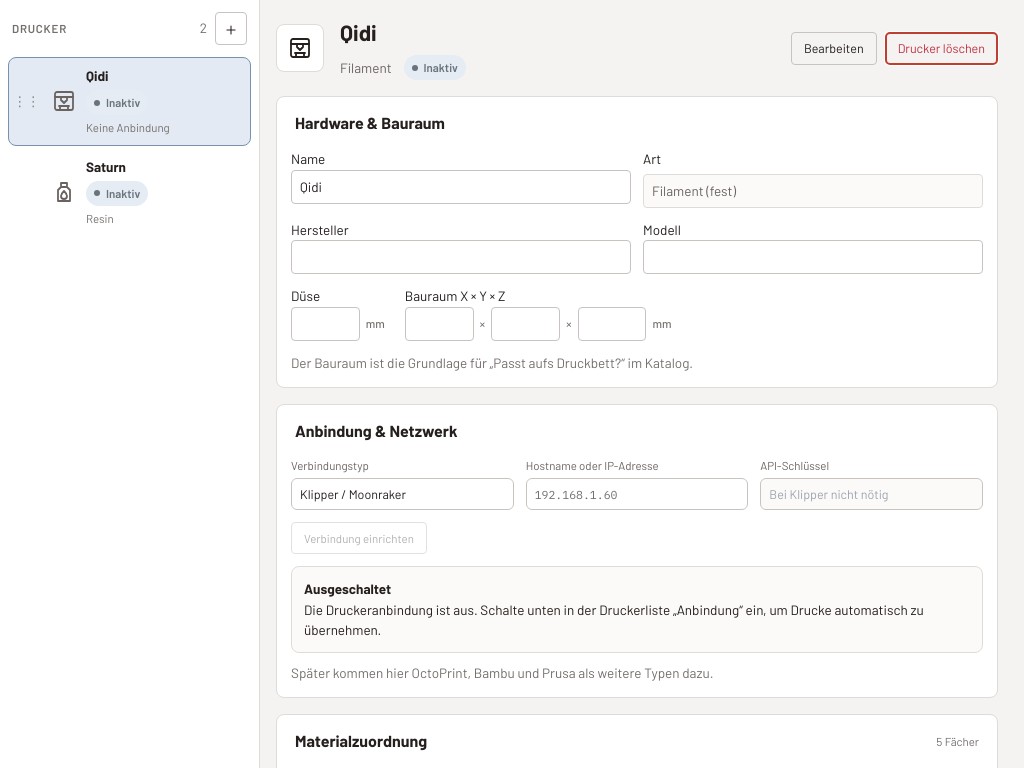
Test case: deletes only after confirmation with return-home count and supports Escape, focus return and Tab trap
Click the button "Drucker löschen". click: click(941, 48)
box: top-left (885, 32), bottom-right (998, 65)
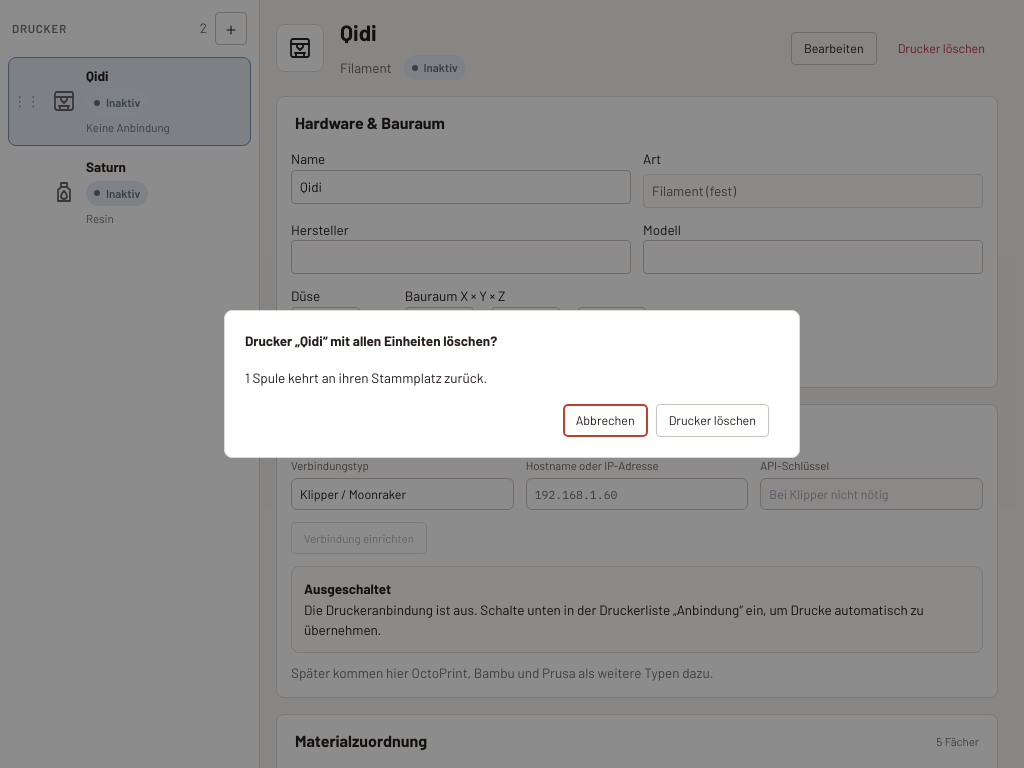
Result: the dialog shows "1 Spule" at top-left (245, 369), bottom-right (487, 386)
Press Tab in the button "Abbrechen", box top-left (563, 404), bottom-right (648, 437)
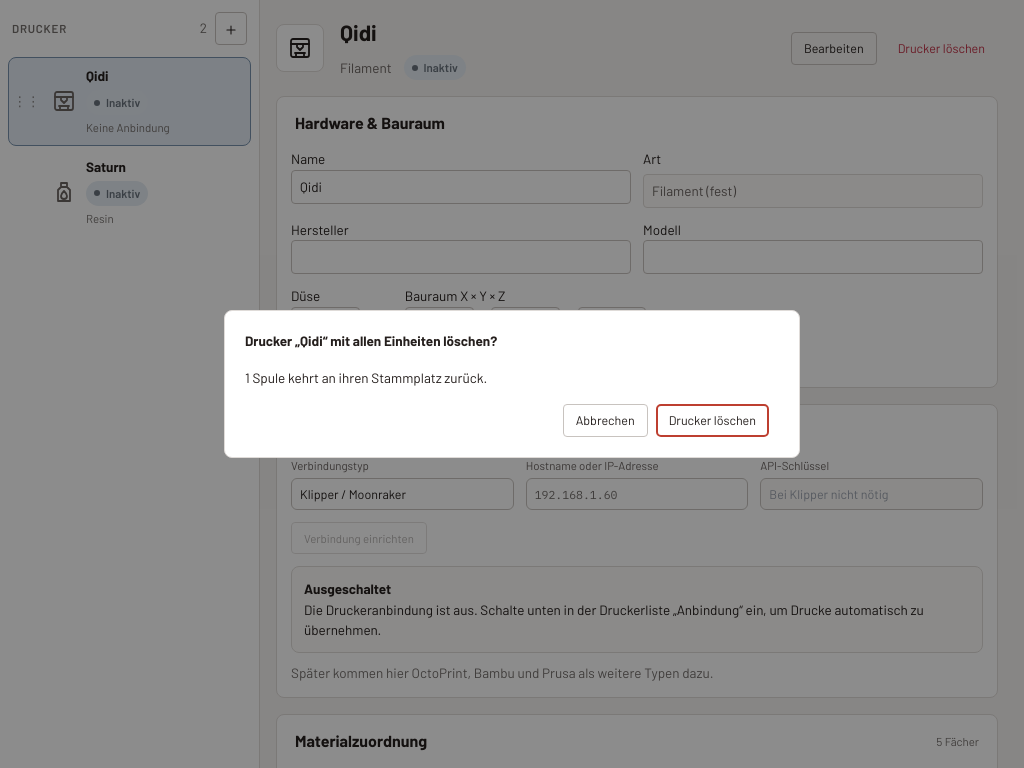
Press Escape in the button "Drucker löschen", box top-left (656, 404), bottom-right (769, 437)
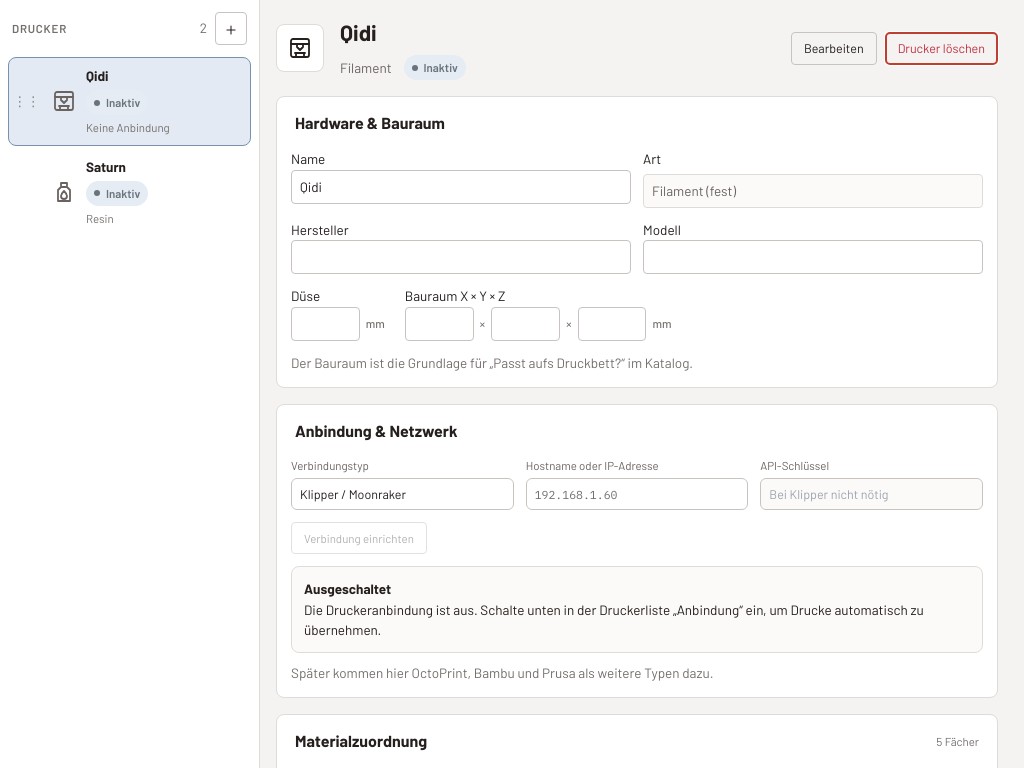
Result: the dialog is gone
Click the button "Drucker löschen". click: click(941, 48)
box: top-left (885, 32), bottom-right (998, 65)
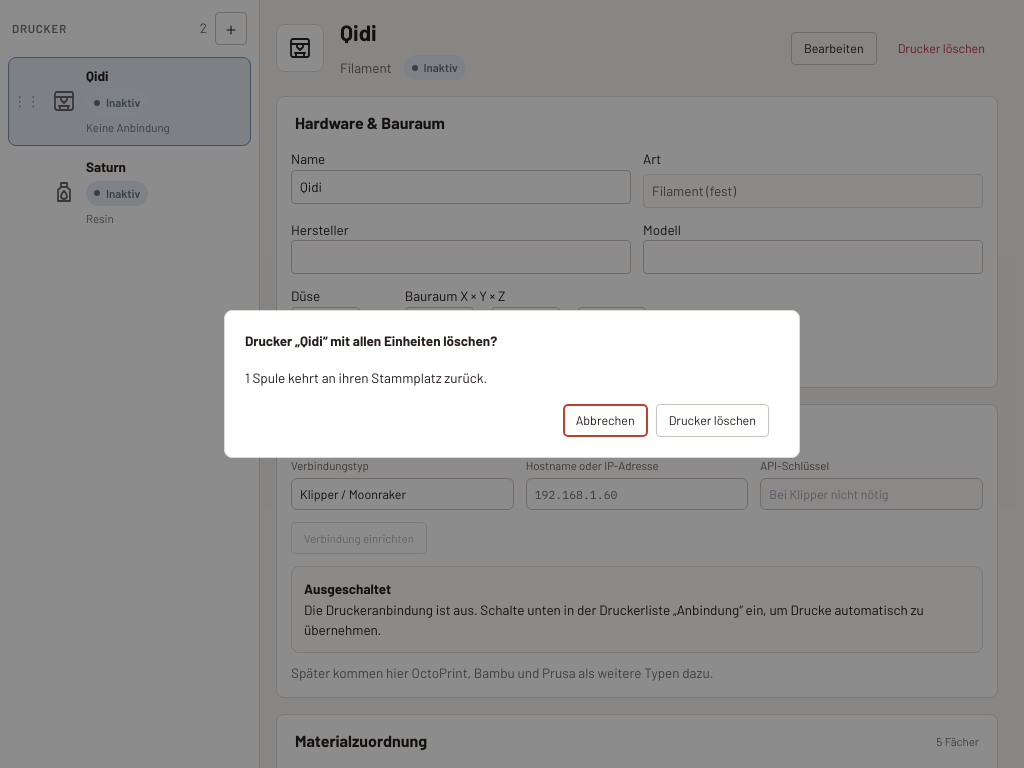
Click the button "Drucker löschen". click: click(712, 420)
box: top-left (656, 404), bottom-right (769, 437)
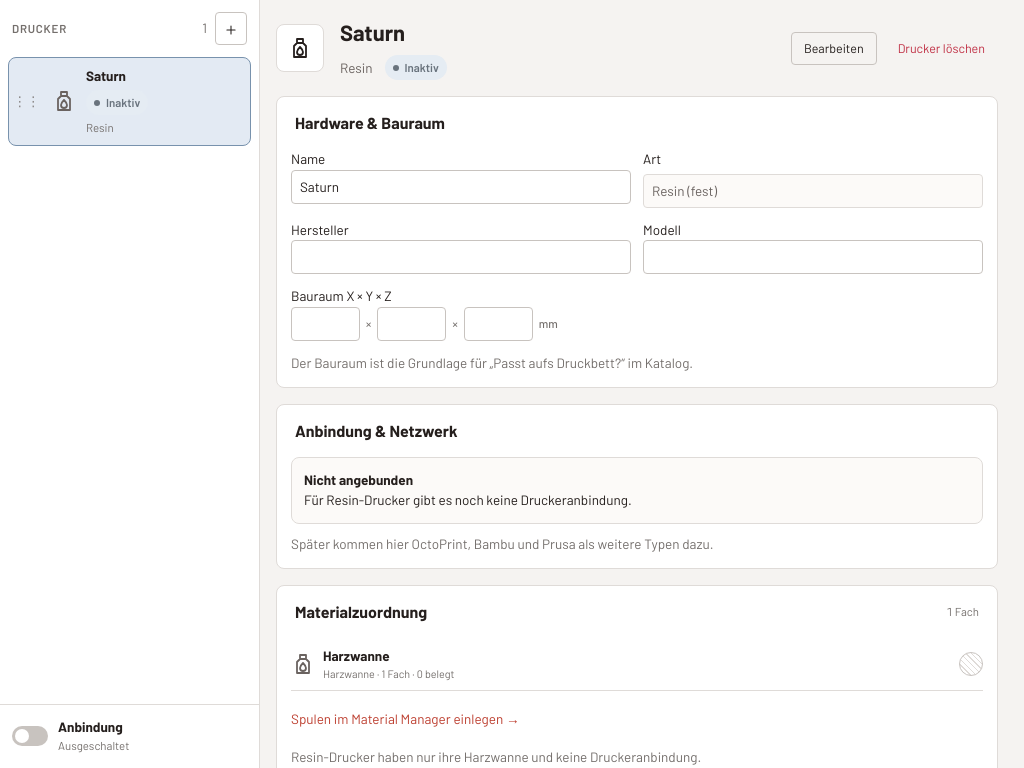
Result: the dialog is gone
Result: the field labelled "Name" holds "Saturn" at top-left (291, 170), bottom-right (631, 204)
